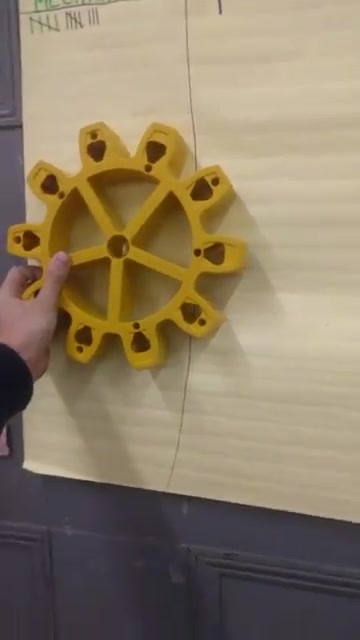gear: (9, 115, 242, 371)
